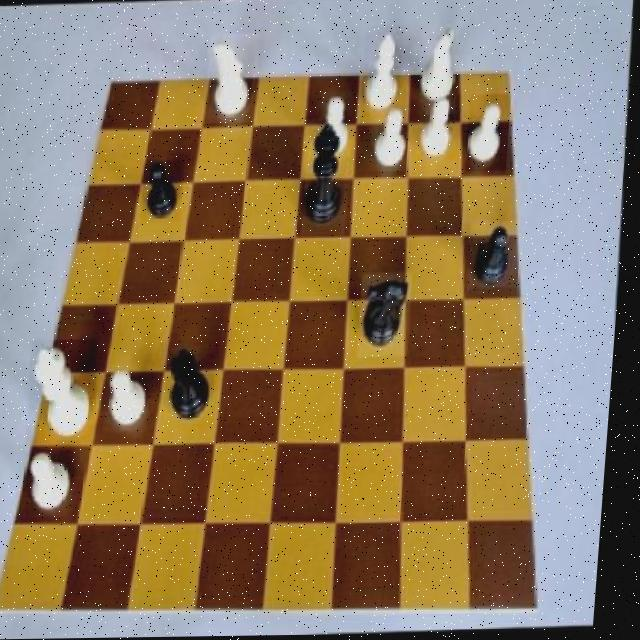black-bishop: (305, 118, 356, 236)
black-king: (362, 275, 418, 360)
black-knight: (470, 221, 525, 289), (143, 160, 188, 223)
black-queen: (167, 347, 218, 426)
black-rook: (362, 26, 407, 120)
white-bishop: (31, 339, 106, 447)
white-king: (205, 34, 261, 126), (416, 26, 463, 116)
white-knight: (31, 442, 90, 521), (467, 95, 514, 173), (110, 364, 158, 434), (370, 107, 421, 172), (319, 91, 357, 165), (422, 95, 463, 163)
